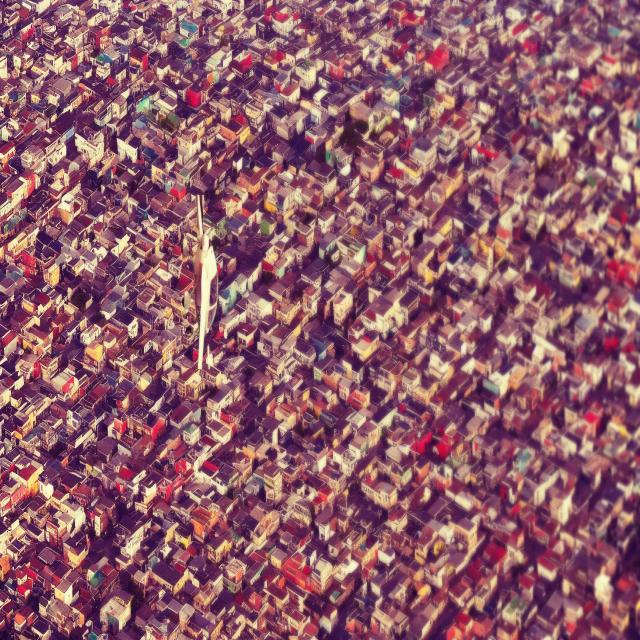airplane: (192, 190, 218, 370)
